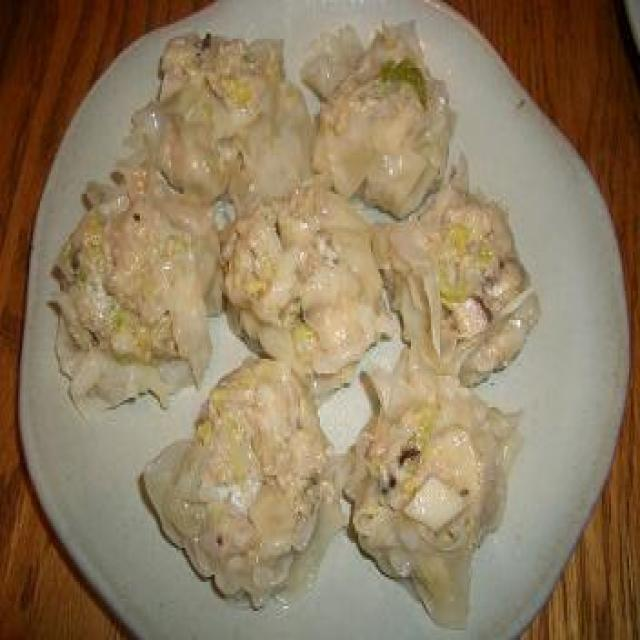带馅早点: (11, 0, 625, 640)
